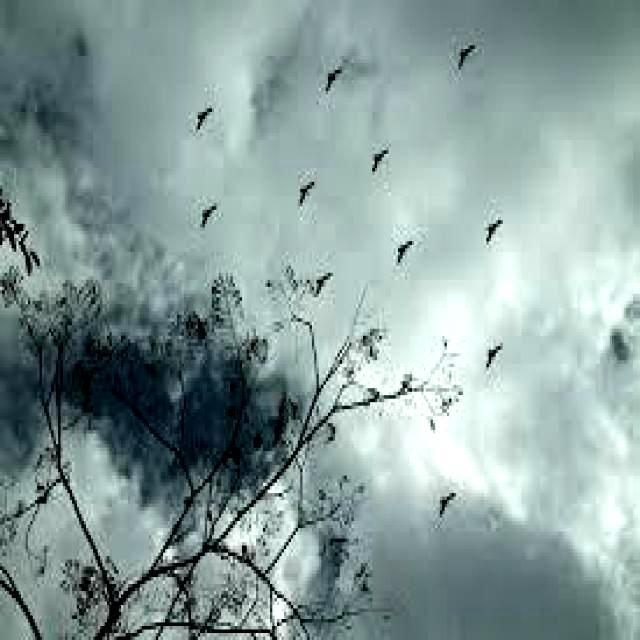bird: (196, 198, 220, 230), (394, 233, 414, 270), (322, 61, 344, 93), (484, 341, 506, 373), (296, 178, 317, 210), (456, 42, 476, 74), (437, 488, 457, 520), (484, 213, 502, 247), (369, 147, 390, 175), (193, 105, 215, 131)
